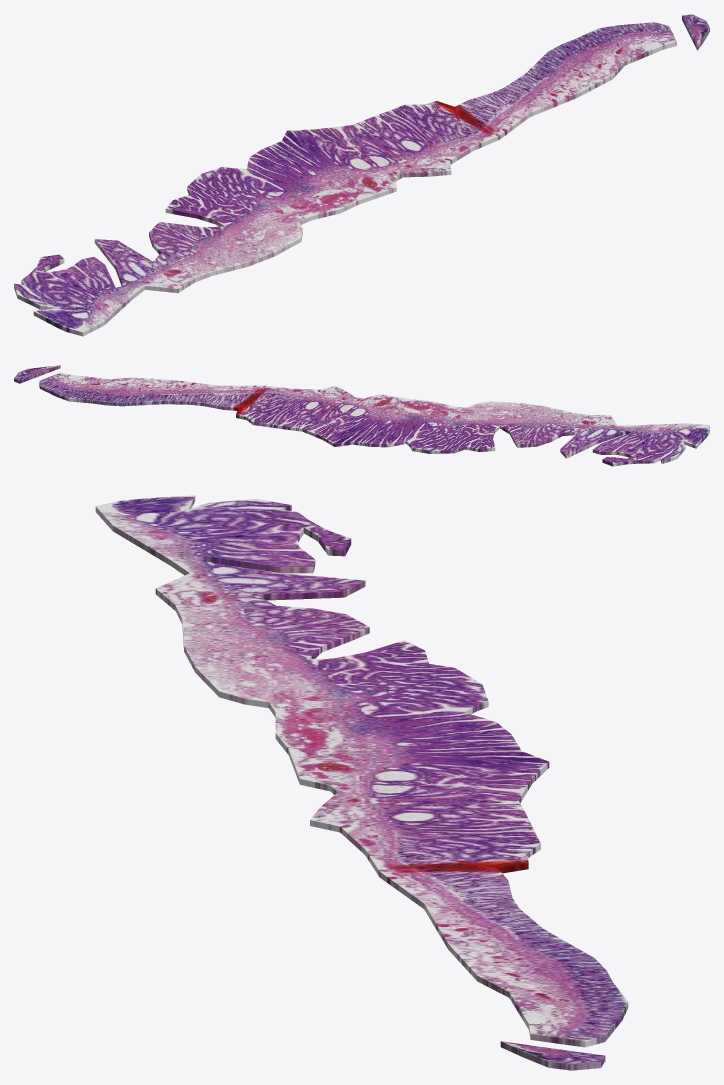
3 views of the same model, one above another, from view 1: azimuth 30°, elevation 25°; view 2: azimuth 150°, elevation 25°; view 3: azimuth 270°, elevation 25° (orthographic). The views are drawn at different scales.
Visible parts, largest first — view 1: 平面; view 2: 平面; view 3: 平面.
Part boxes in pixels (x1,y1,x2,y2): 平面: [14, 14, 709, 336]; 平面: [14, 365, 709, 466]; 平面: [95, 495, 628, 1070].
Bounding box in the file's own units: 25.66 × 0.1248 × 10.14.
Materials: 1 (1 with a texture image).
